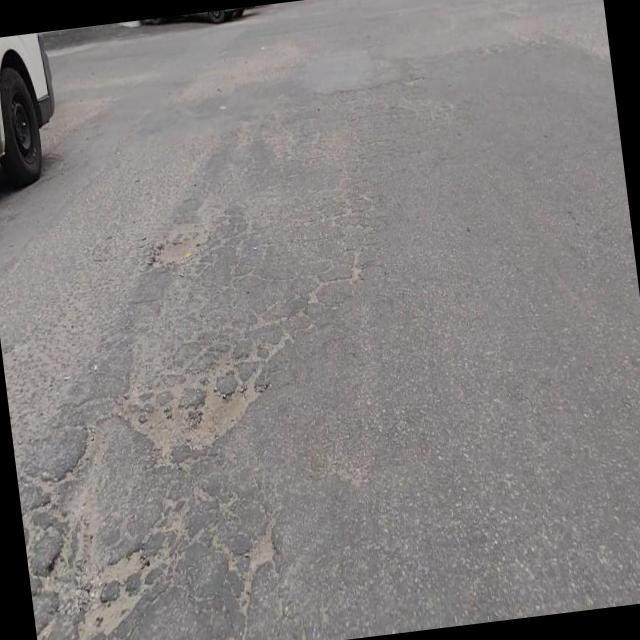Pothole: (119, 368, 266, 474), (73, 540, 152, 640), (149, 237, 203, 269)
